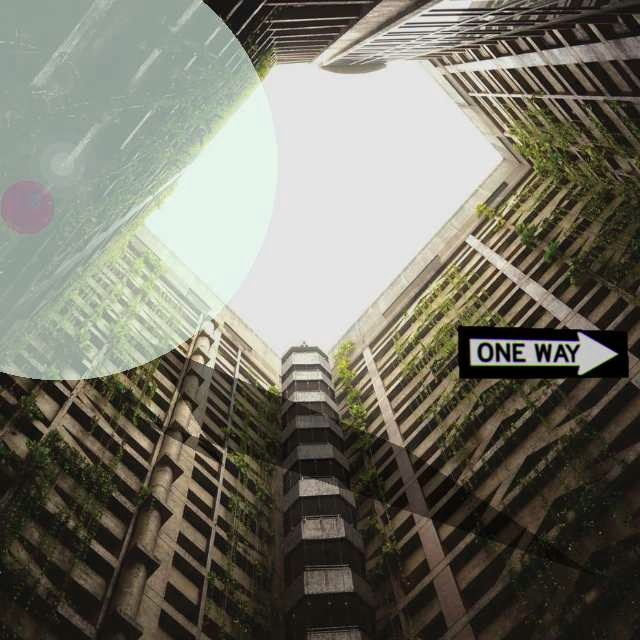ONE_WAY_ right: (457, 325, 629, 379)
